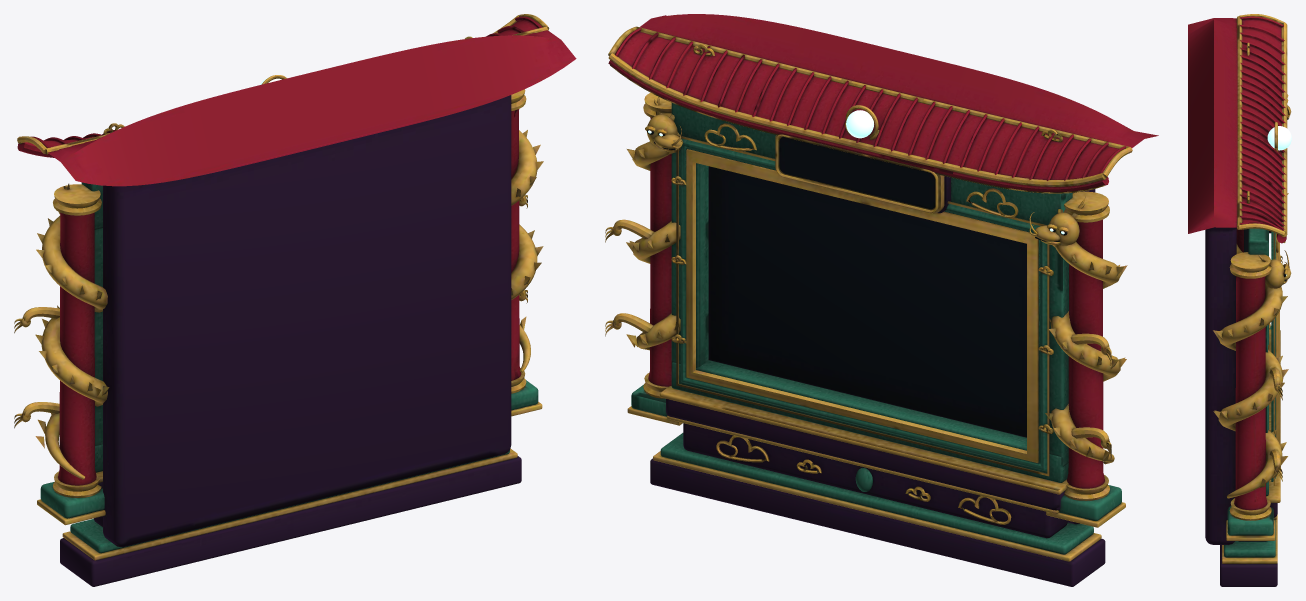
3 views of the same model, side by side, from view 1: azimuth 30°, elevation 25°; view 2: azimuth 150°, elevation 25°; view 3: azimuth 270°, elevation 25° (orthographic). The views are drawn at different scales.
Parts seen in each view (by area): view 1: Violet_lacquer, Imperial_red_lacquer, Imperial_gold, Quiet_nephrite_jade; view 2: Uniform_dark_enamel, Imperial_red_lacquer, Imperial_gold, Quiet_nephrite_jade, Violet_lacquer; view 3: Imperial_red_lacquer, Imperial_gold, Violet_lacquer, Quiet_nephrite_jade, Pearl_and_eyes_glow.
Boxes of the visible parts, box(x1,y1,x2,y2) form: Violet_lacquer: box(60, 95, 521, 586); Imperial_red_lacquer: box(17, 16, 576, 485); Imperial_gold: box(14, 14, 549, 560); Quiet_nephrite_jade: box(40, 182, 538, 553); Uniform_dark_enamel: box(647, 130, 1067, 436); Imperial_red_lacquer: box(608, 14, 1158, 488); Imperial_gold: box(605, 26, 1132, 561); Quiet_nephrite_jade: box(631, 103, 1121, 554); Violet_lacquer: box(650, 166, 1105, 586); Imperial_red_lacquer: box(1188, 16, 1286, 510); Imperial_gold: box(1213, 14, 1291, 563); Violet_lacquer: box(1205, 227, 1277, 586); Quiet_nephrite_jade: box(1224, 228, 1275, 557); Pearl_and_eyes_glow: box(1267, 126, 1291, 275).
Size of the model in its own units: 10.38 by 9 by 2.12.
6 materials, 5 textured.
